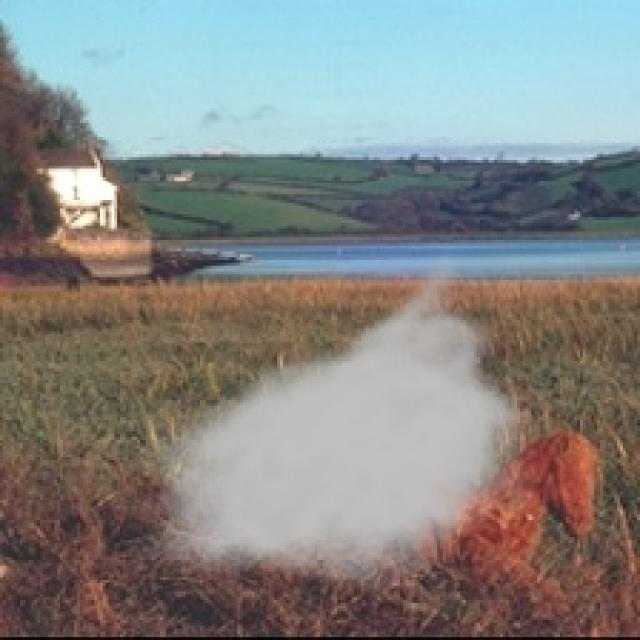smoke: (131, 243, 540, 591)
